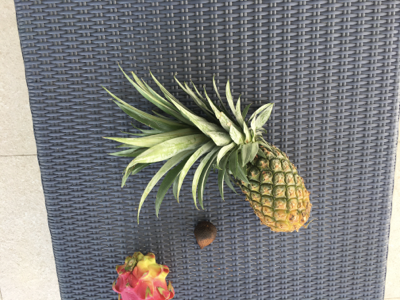dragon fruit: (115, 253, 175, 300)
pineapple: (105, 58, 312, 239)
snake fruit: (193, 220, 217, 250)
